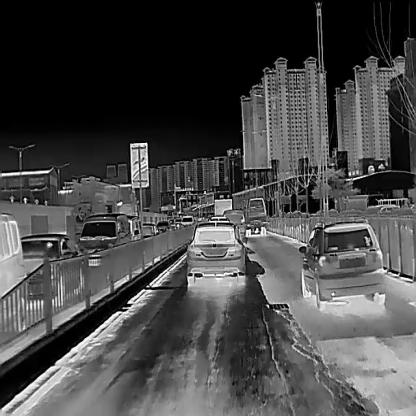bus: (214, 198, 231, 216)
car: (298, 217, 386, 309), (20, 233, 83, 309), (187, 219, 245, 282), (77, 212, 131, 267), (0, 211, 24, 324), (222, 208, 245, 237), (126, 214, 142, 245), (141, 222, 158, 236), (156, 219, 171, 232), (181, 214, 193, 226)
truck: (243, 196, 269, 236)
